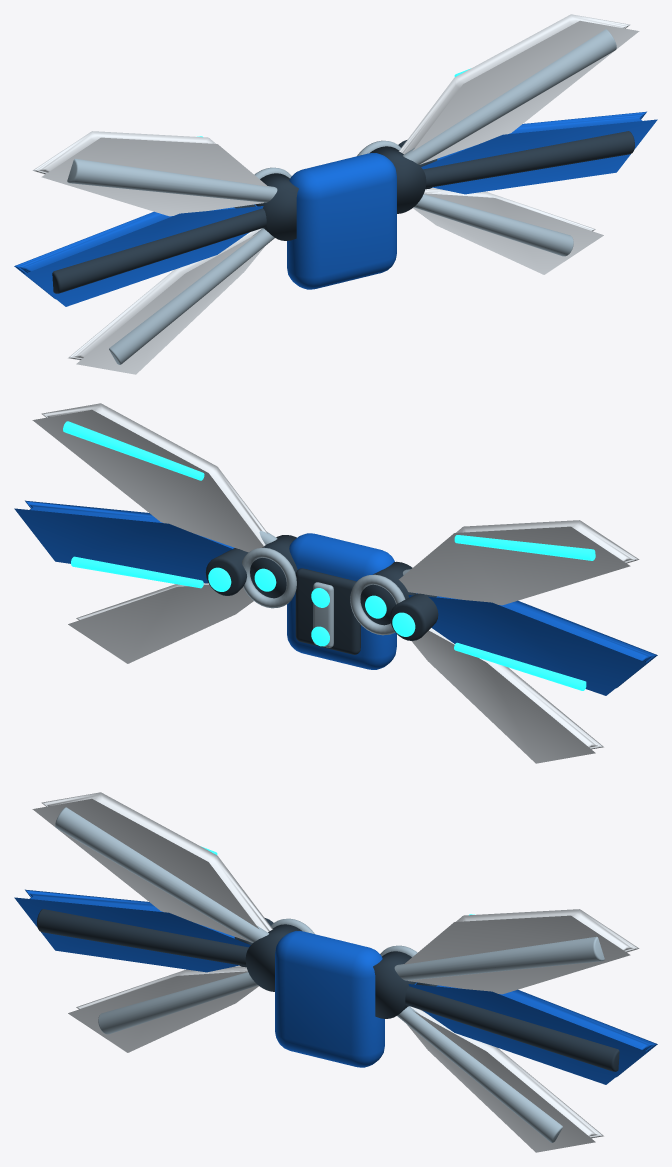
File: robot_wings.glb
The picture shows the model from 3 angles, top to bottom: view 1: azimuth 30°, elevation 25°; view 2: azimuth 150°, elevation 25°; view 3: azimuth 330°, elevation 25°; orthographic projection.
Parts seen in each view (by area): view 1: Wing backpack shell, Left upper white flight panel, Right upper white flight panel, Right middle blue flight panel, Left middle blue flight panel, Right lower white flight panel, Left lower white flight panel, Right middle graphite spar, Left upper alloy spar, Left middle graphite spar, Right upper alloy spar, Right lower alloy spar (+3 smaller); view 2: Left upper white flight panel, Right upper white flight panel, Right middle blue flight panel, Left middle blue flight panel, Right lower white flight panel, Left lower white flight panel, Wing backpack shell, Wing backpack inset, Left cyan leading light, Left hinge alloy ring, Right cyan leading light, Right cyan trailing light (+7 smaller); view 3: Wing backpack shell, Right upper white flight panel, Left upper white flight panel, Left middle blue flight panel, Right middle blue flight panel, Left lower white flight panel, Right lower white flight panel, Left middle graphite spar, Right upper alloy spar, Right middle graphite spar, Left upper alloy spar, Left lower alloy spar (+3 smaller).
Part boxes in pixels (box(x1,y1,x2,y2)): Wing backpack shell: box(287, 153, 396, 289); Left upper white flight panel: box(399, 14, 639, 164); Right upper white flight panel: box(32, 131, 267, 216); Right middle blue flight panel: box(14, 204, 263, 306); Left middle blue flight panel: box(421, 111, 657, 194); Right lower white flight panel: box(68, 228, 264, 374); Left lower white flight panel: box(413, 188, 603, 274); Right middle graphite spar: box(52, 208, 266, 293); Left upper alloy spar: box(403, 29, 616, 164); Left middle graphite spar: box(423, 131, 634, 188); Right upper alloy spar: box(67, 158, 277, 202); Right lower alloy spar: box(109, 228, 274, 364); Left upper white flight panel: box(32, 403, 267, 552); Right upper white flight panel: box(399, 520, 639, 605); Right middle blue flight panel: box(408, 593, 657, 695); Left middle blue flight panel: box(14, 500, 234, 583); Right lower white flight panel: box(411, 628, 603, 763); Left lower white flight panel: box(68, 583, 253, 663); Wing backpack shell: box(287, 533, 396, 669); Wing backpack inset: box(295, 568, 360, 654); Left cyan leading light: box(63, 421, 204, 480); Left hinge alloy ring: box(242, 547, 296, 608); Right cyan leading light: box(454, 535, 595, 560); Right cyan trailing light: box(454, 642, 586, 690); Wing backpack shell: box(275, 931, 384, 1067); Right upper white flight panel: box(32, 792, 272, 942); Left upper white flight panel: box(404, 909, 639, 994); Left middle blue flight panel: box(408, 982, 657, 1084); Right middle blue flight panel: box(14, 889, 250, 972); Left lower white flight panel: box(407, 1006, 603, 1152); Right lower white flight panel: box(68, 966, 258, 1052); Left middle graphite spar: box(405, 986, 619, 1071); Right upper alloy spar: box(55, 807, 268, 942); Right middle graphite spar: box(37, 909, 248, 966); Left upper alloy spar: box(394, 936, 604, 980); Left lower alloy spar: box(397, 1006, 562, 1142).
Bounding box in the file's own units: 3.1 × 1.15 × 0.377.
